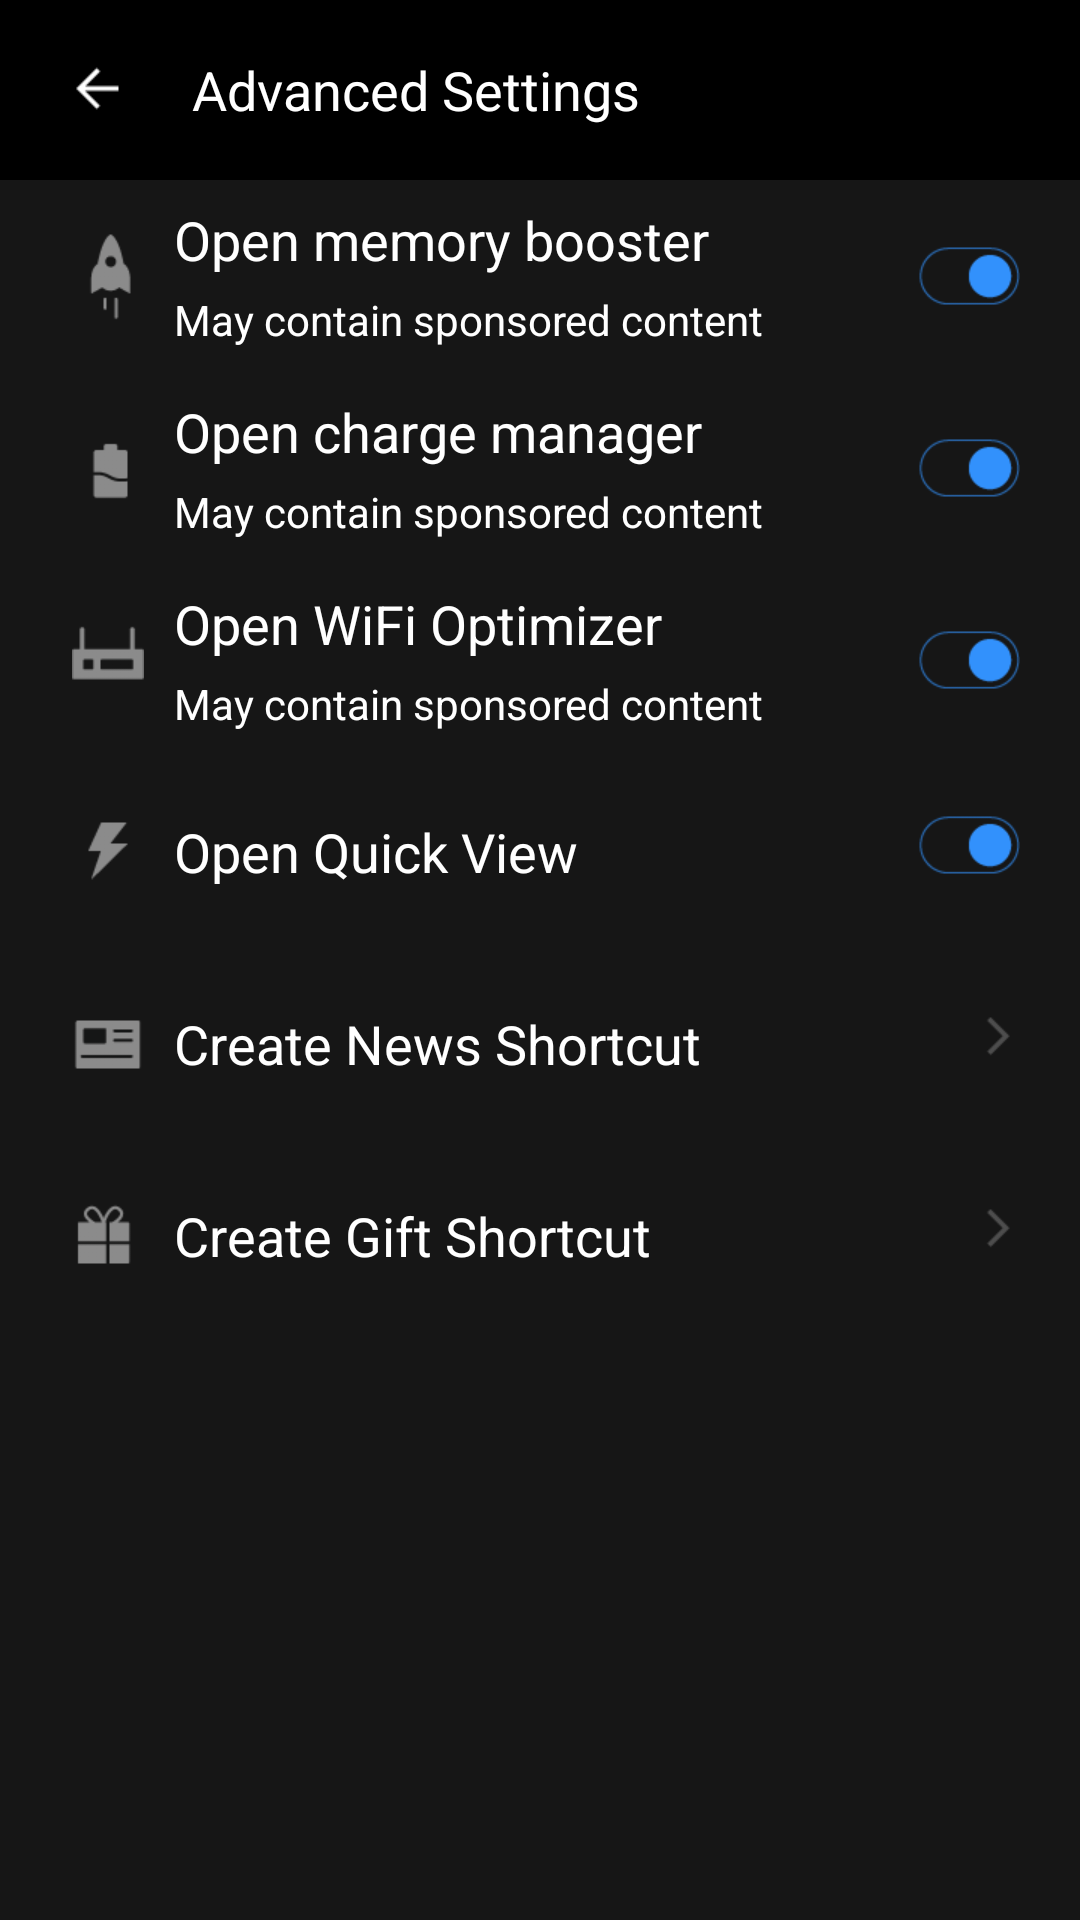

Point at icon controls on the screen. Image size 1080 x 1920, points as (x,y).
back: (97,88)
giftcharge: (104,1235)
newscharge: (107,1044)
quickcharge: (108,850)
wificharge: (108,653)
